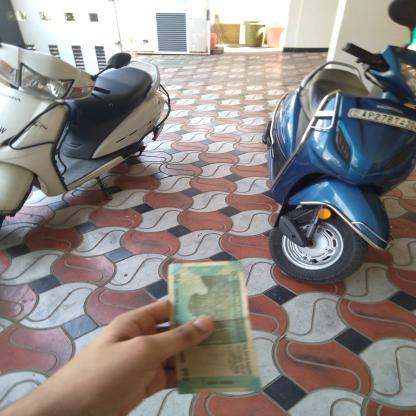New50Back: (168, 264, 248, 390)
